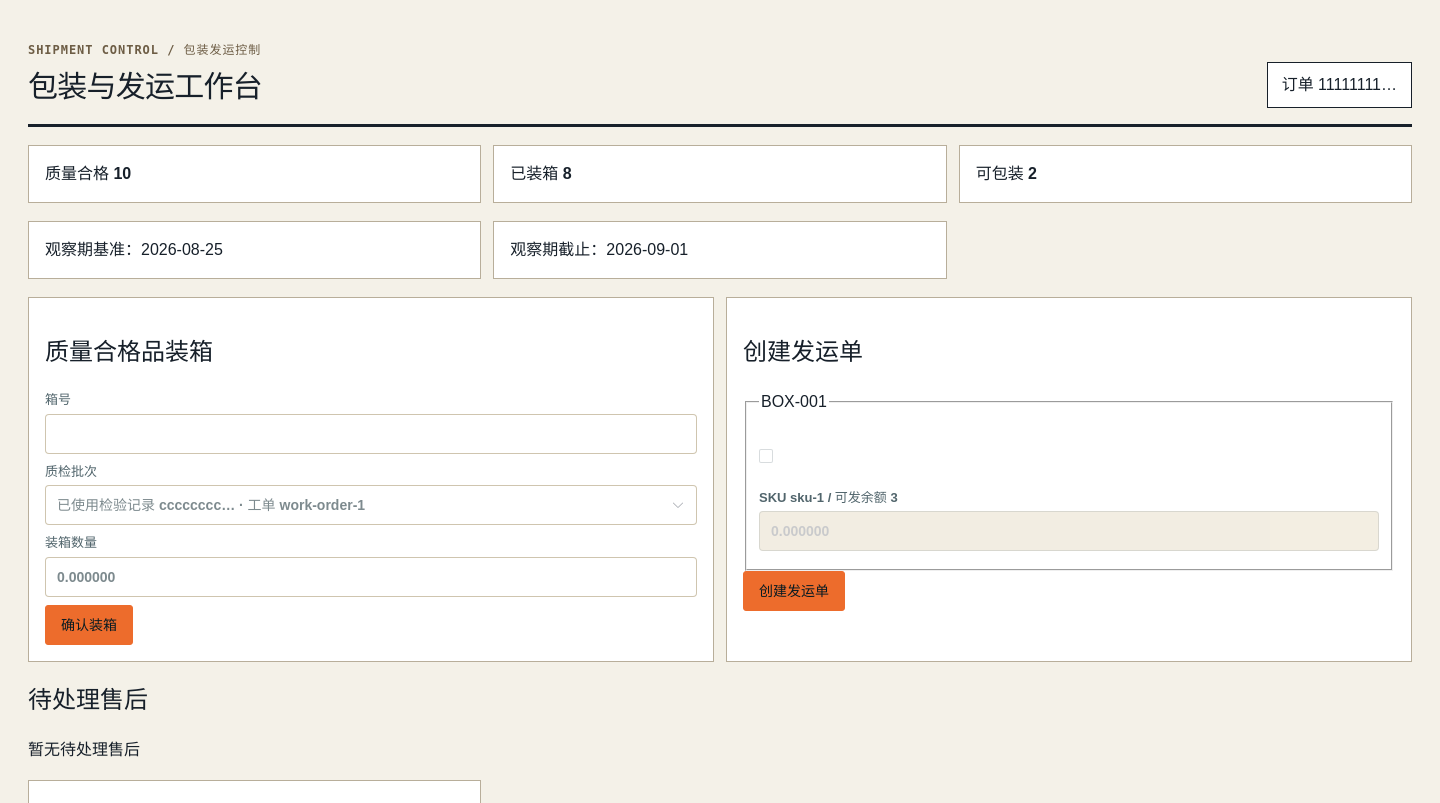
Test: 包装发运与售后返工工作台 › 普通发运仅允许提交未被发运计划占用的余额
Expected: the form with test id "create-shipment-form" shows "可发余额 3", [759, 490, 898, 505]
Click the checkbox labelled "SKU sku-1 / 可发余额 3" at point(828, 497), box [759, 428, 1379, 551]
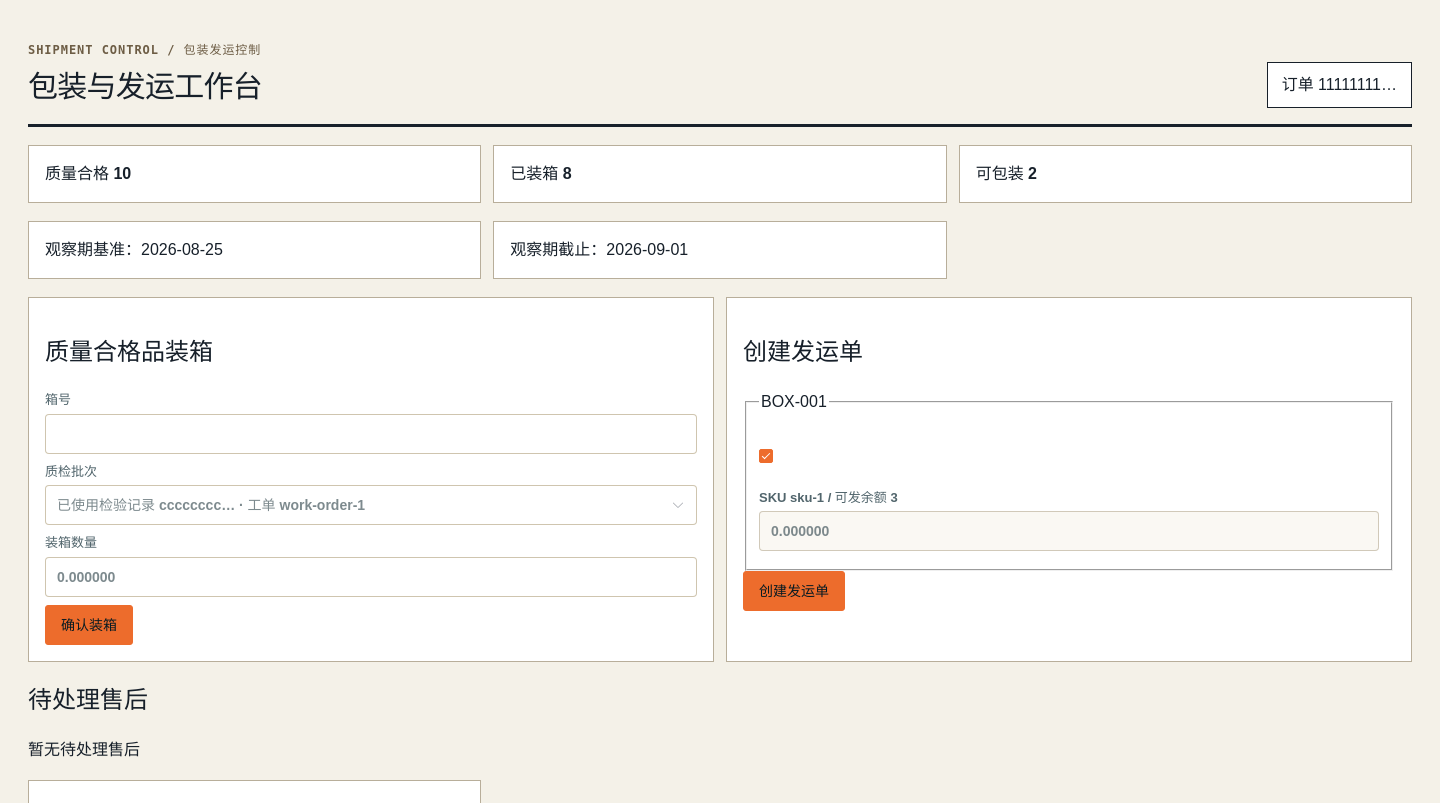
Type "4" into the field with placeholder "0.000000" at point(1069, 531), box [771, 515, 1367, 547]
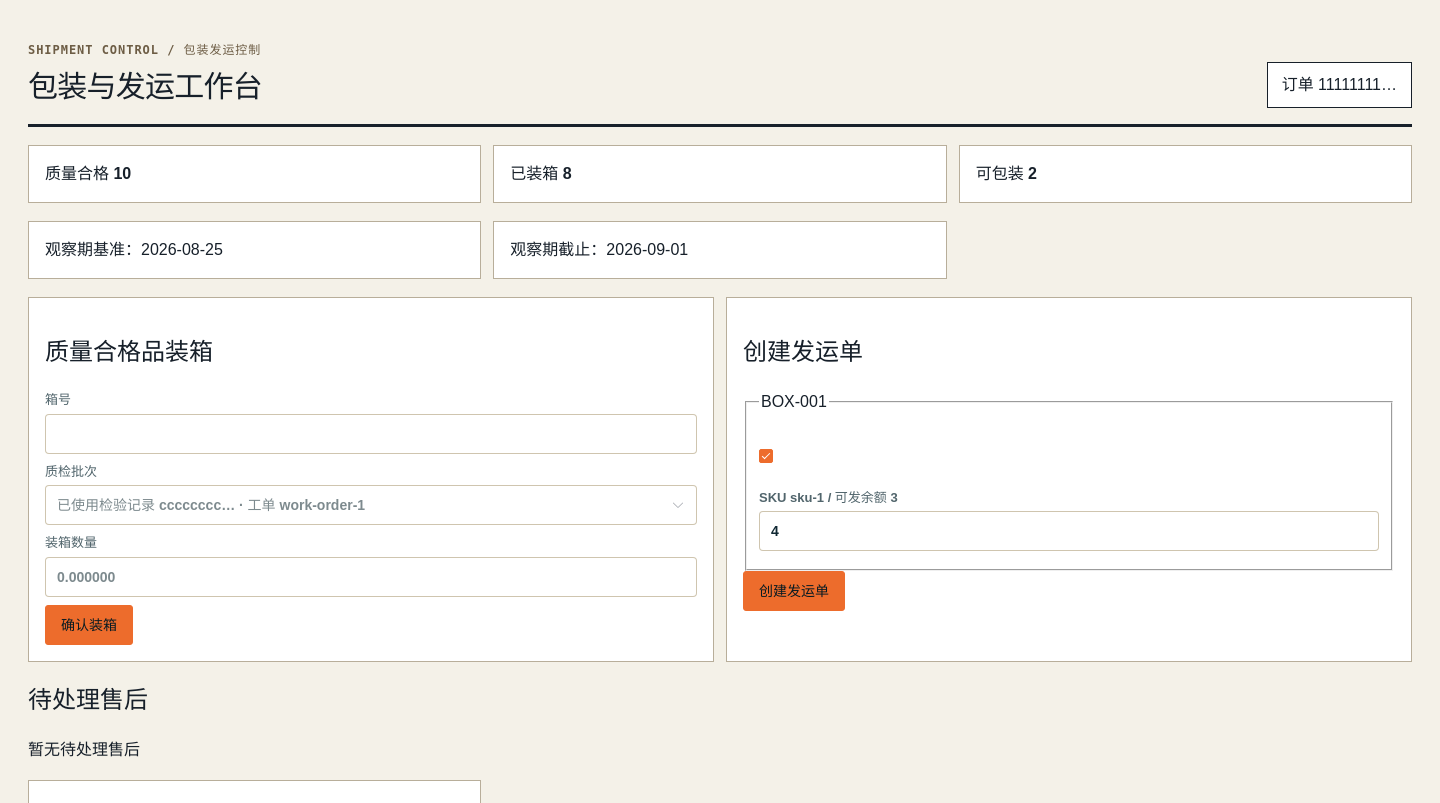
Submit the form with test id "create-shipment-form", box [726, 297, 1412, 662]
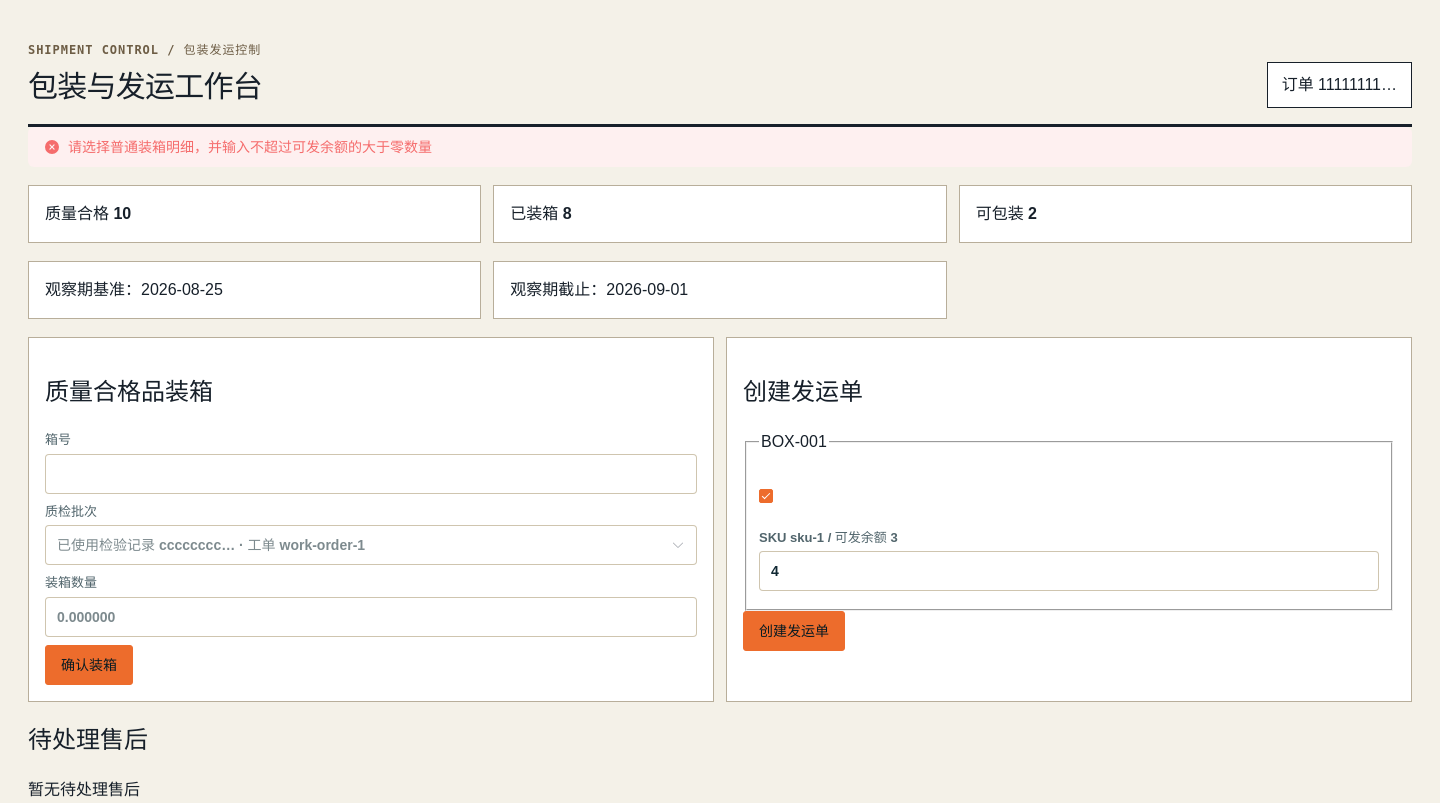
Now the message "请选择普通装箱明细，并输入不超过可发余额的大于零数量" is shown, box [28, 127, 1412, 167]
